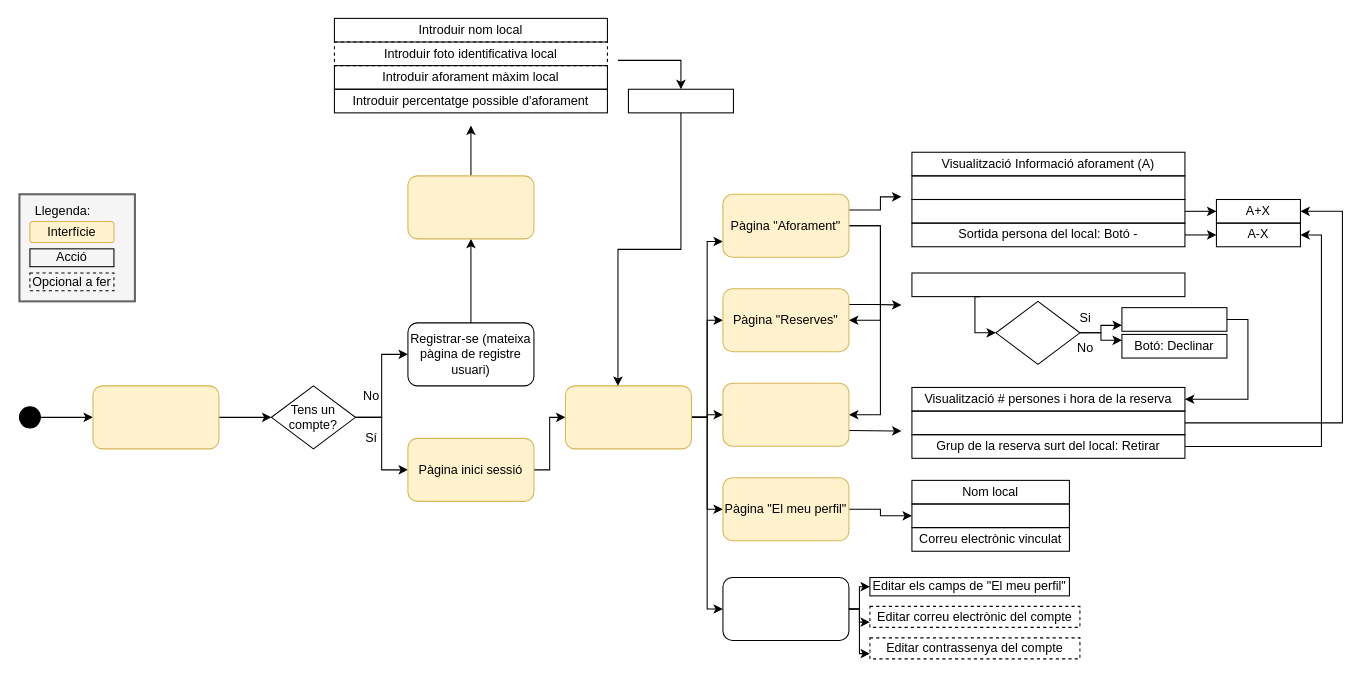
This 1369x680 diagram has some shape labels left out. The shapes that lost their labels are listed below. From the top down, each one's box as (x1, y1, x2, y2) in pixels, then its label:
(627, 88, 733, 113): Guardar
(407, 175, 534, 239): Pàgina Configuració
(911, 175, 1185, 200): Visualitzar/editar número a sumar/restar (x)
(911, 198, 1185, 223): Afegir persona al local: Botó +
(911, 272, 1185, 297): Visualització nom reserva, #persones, hora
(995, 300, 1080, 364): Disponibilitat?
(1121, 307, 1227, 331): Botó: Acceptar
(92, 385, 219, 449): Pàgina registre usuari
(564, 385, 691, 449): Pàgina principal
(722, 382, 849, 446): Pàgina "Cua"
(911, 410, 1185, 435): Grup de la reserva entra al locat: botó Entrar
(911, 503, 1069, 528): Aforament màxim
(722, 576, 849, 640): Configuració
